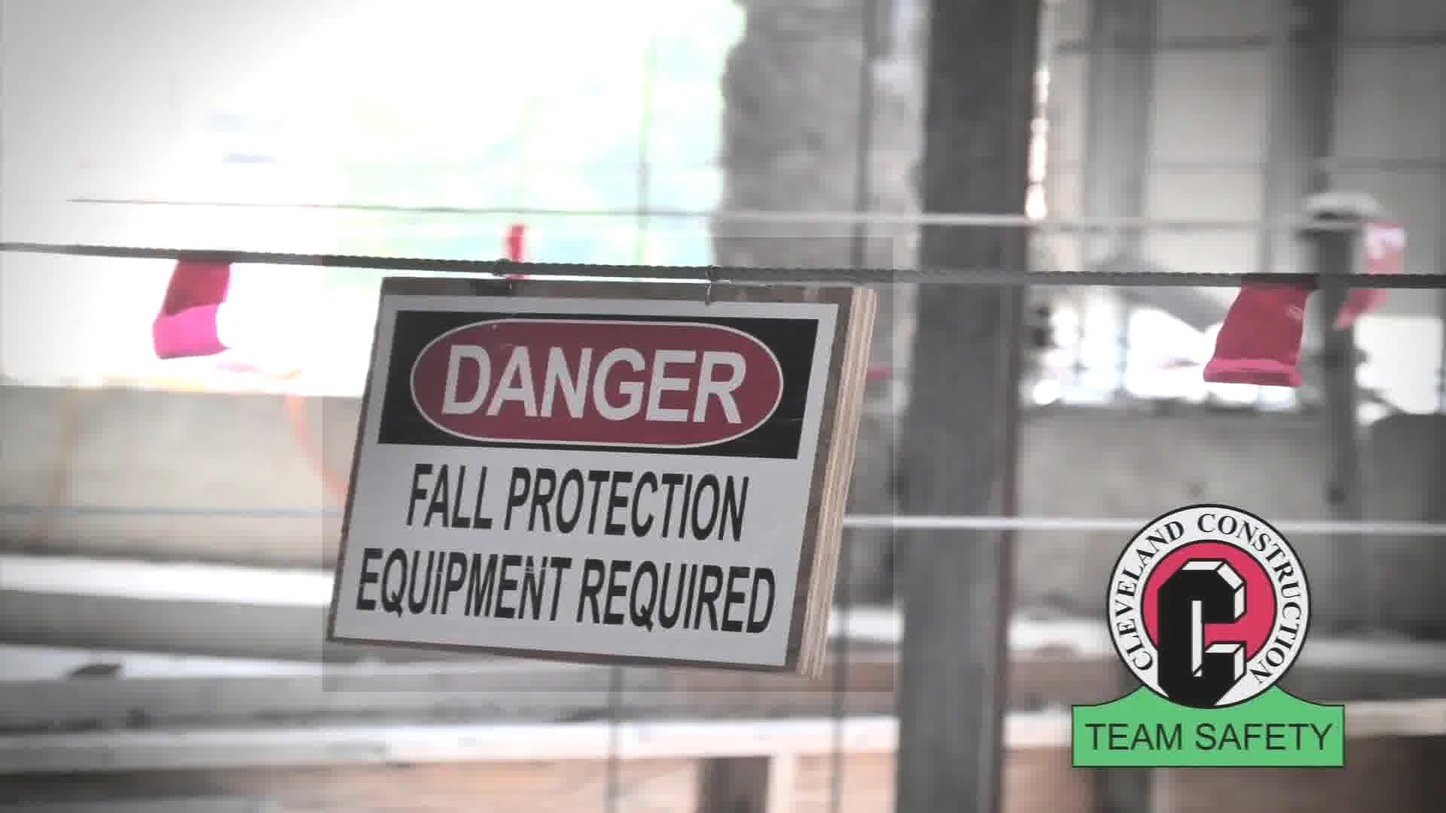safety_signage: (322, 237, 893, 692)
